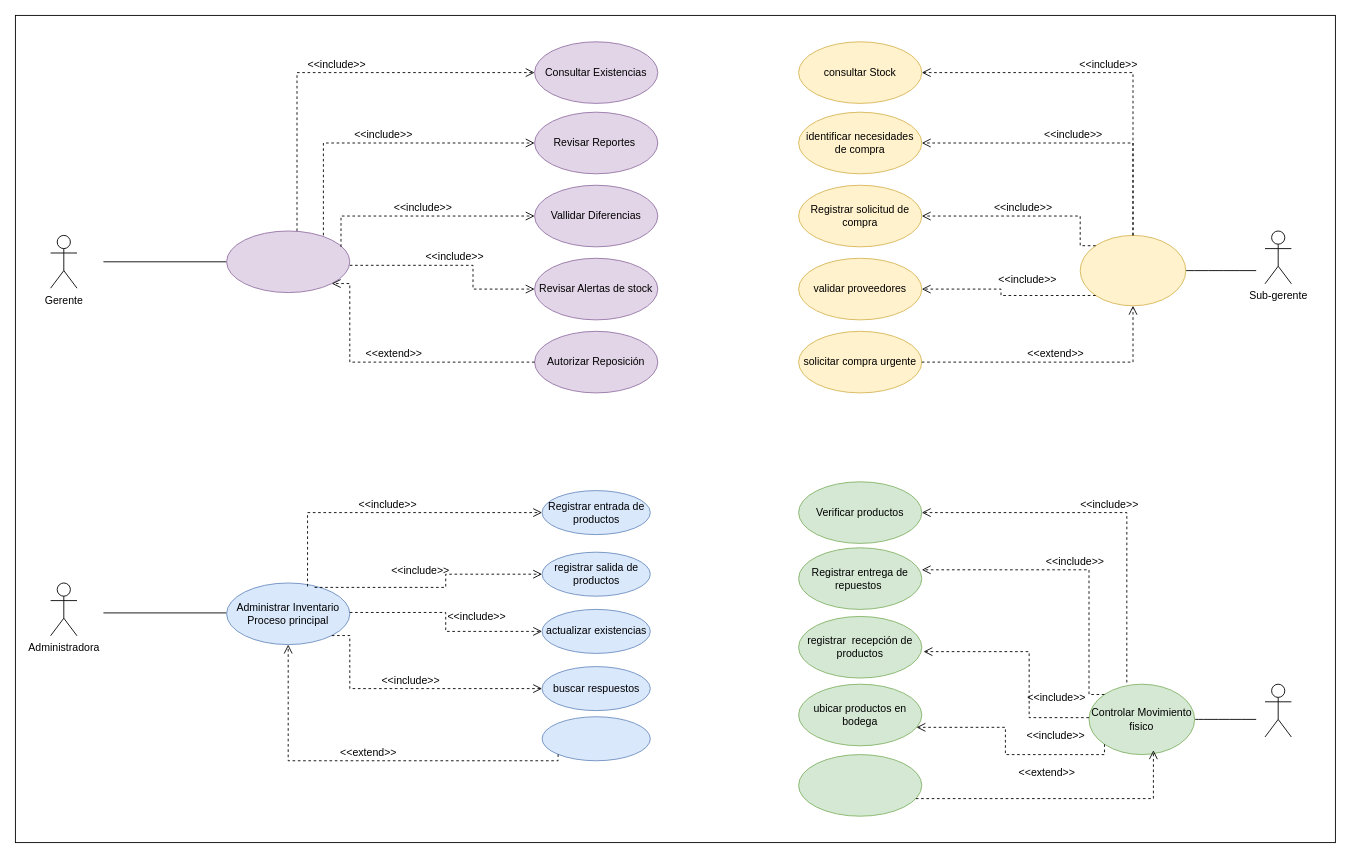
Some shapes in this 1351 by 858 pixel diagram are drawn without their labels. The centre of each missing label's shape, as x and y in pixels:
"Gestionar Abastecimiento" belongs at (x=1132, y=270).
"Mensajero de bodega" belongs at (x=1277, y=710).
"realizar ajuste de inventario" belongs at (x=595, y=738).
"reportar diferencia fisica" belongs at (x=860, y=785).
"Supervisar Inventario Proceso principal" belongs at (x=288, y=261).
